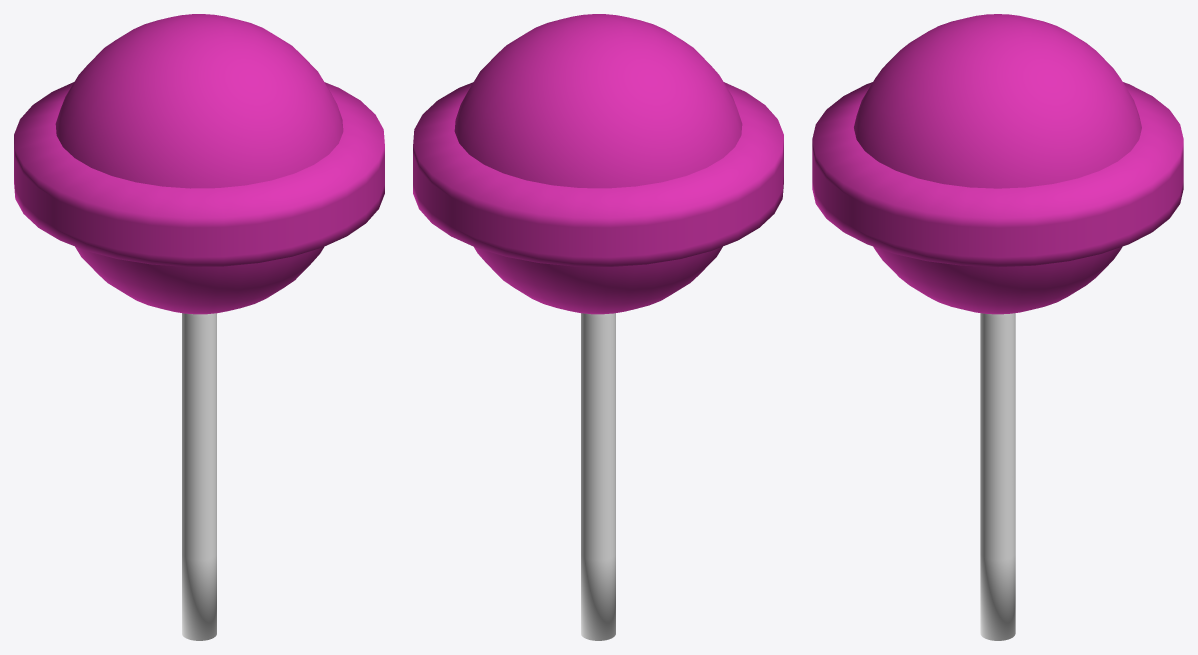
File: candy_savepoint.FBX
The picture shows the model from 3 angles, left to right: view 1: azimuth 30°, elevation 25°; view 2: azimuth 150°, elevation 25°; view 3: azimuth 270°, elevation 25°; orthographic projection.
Visible parts, largest first — view 1: Cylinder001; view 2: Cylinder001; view 3: Cylinder001.
Boxes of the visible parts, x1,y1,x2,y2 form: Cylinder001: [14, 14, 384, 640]; Cylinder001: [413, 14, 783, 640]; Cylinder001: [812, 14, 1183, 640].
Size of the model in its own units: 37.63 by 67.68 by 37.63.
